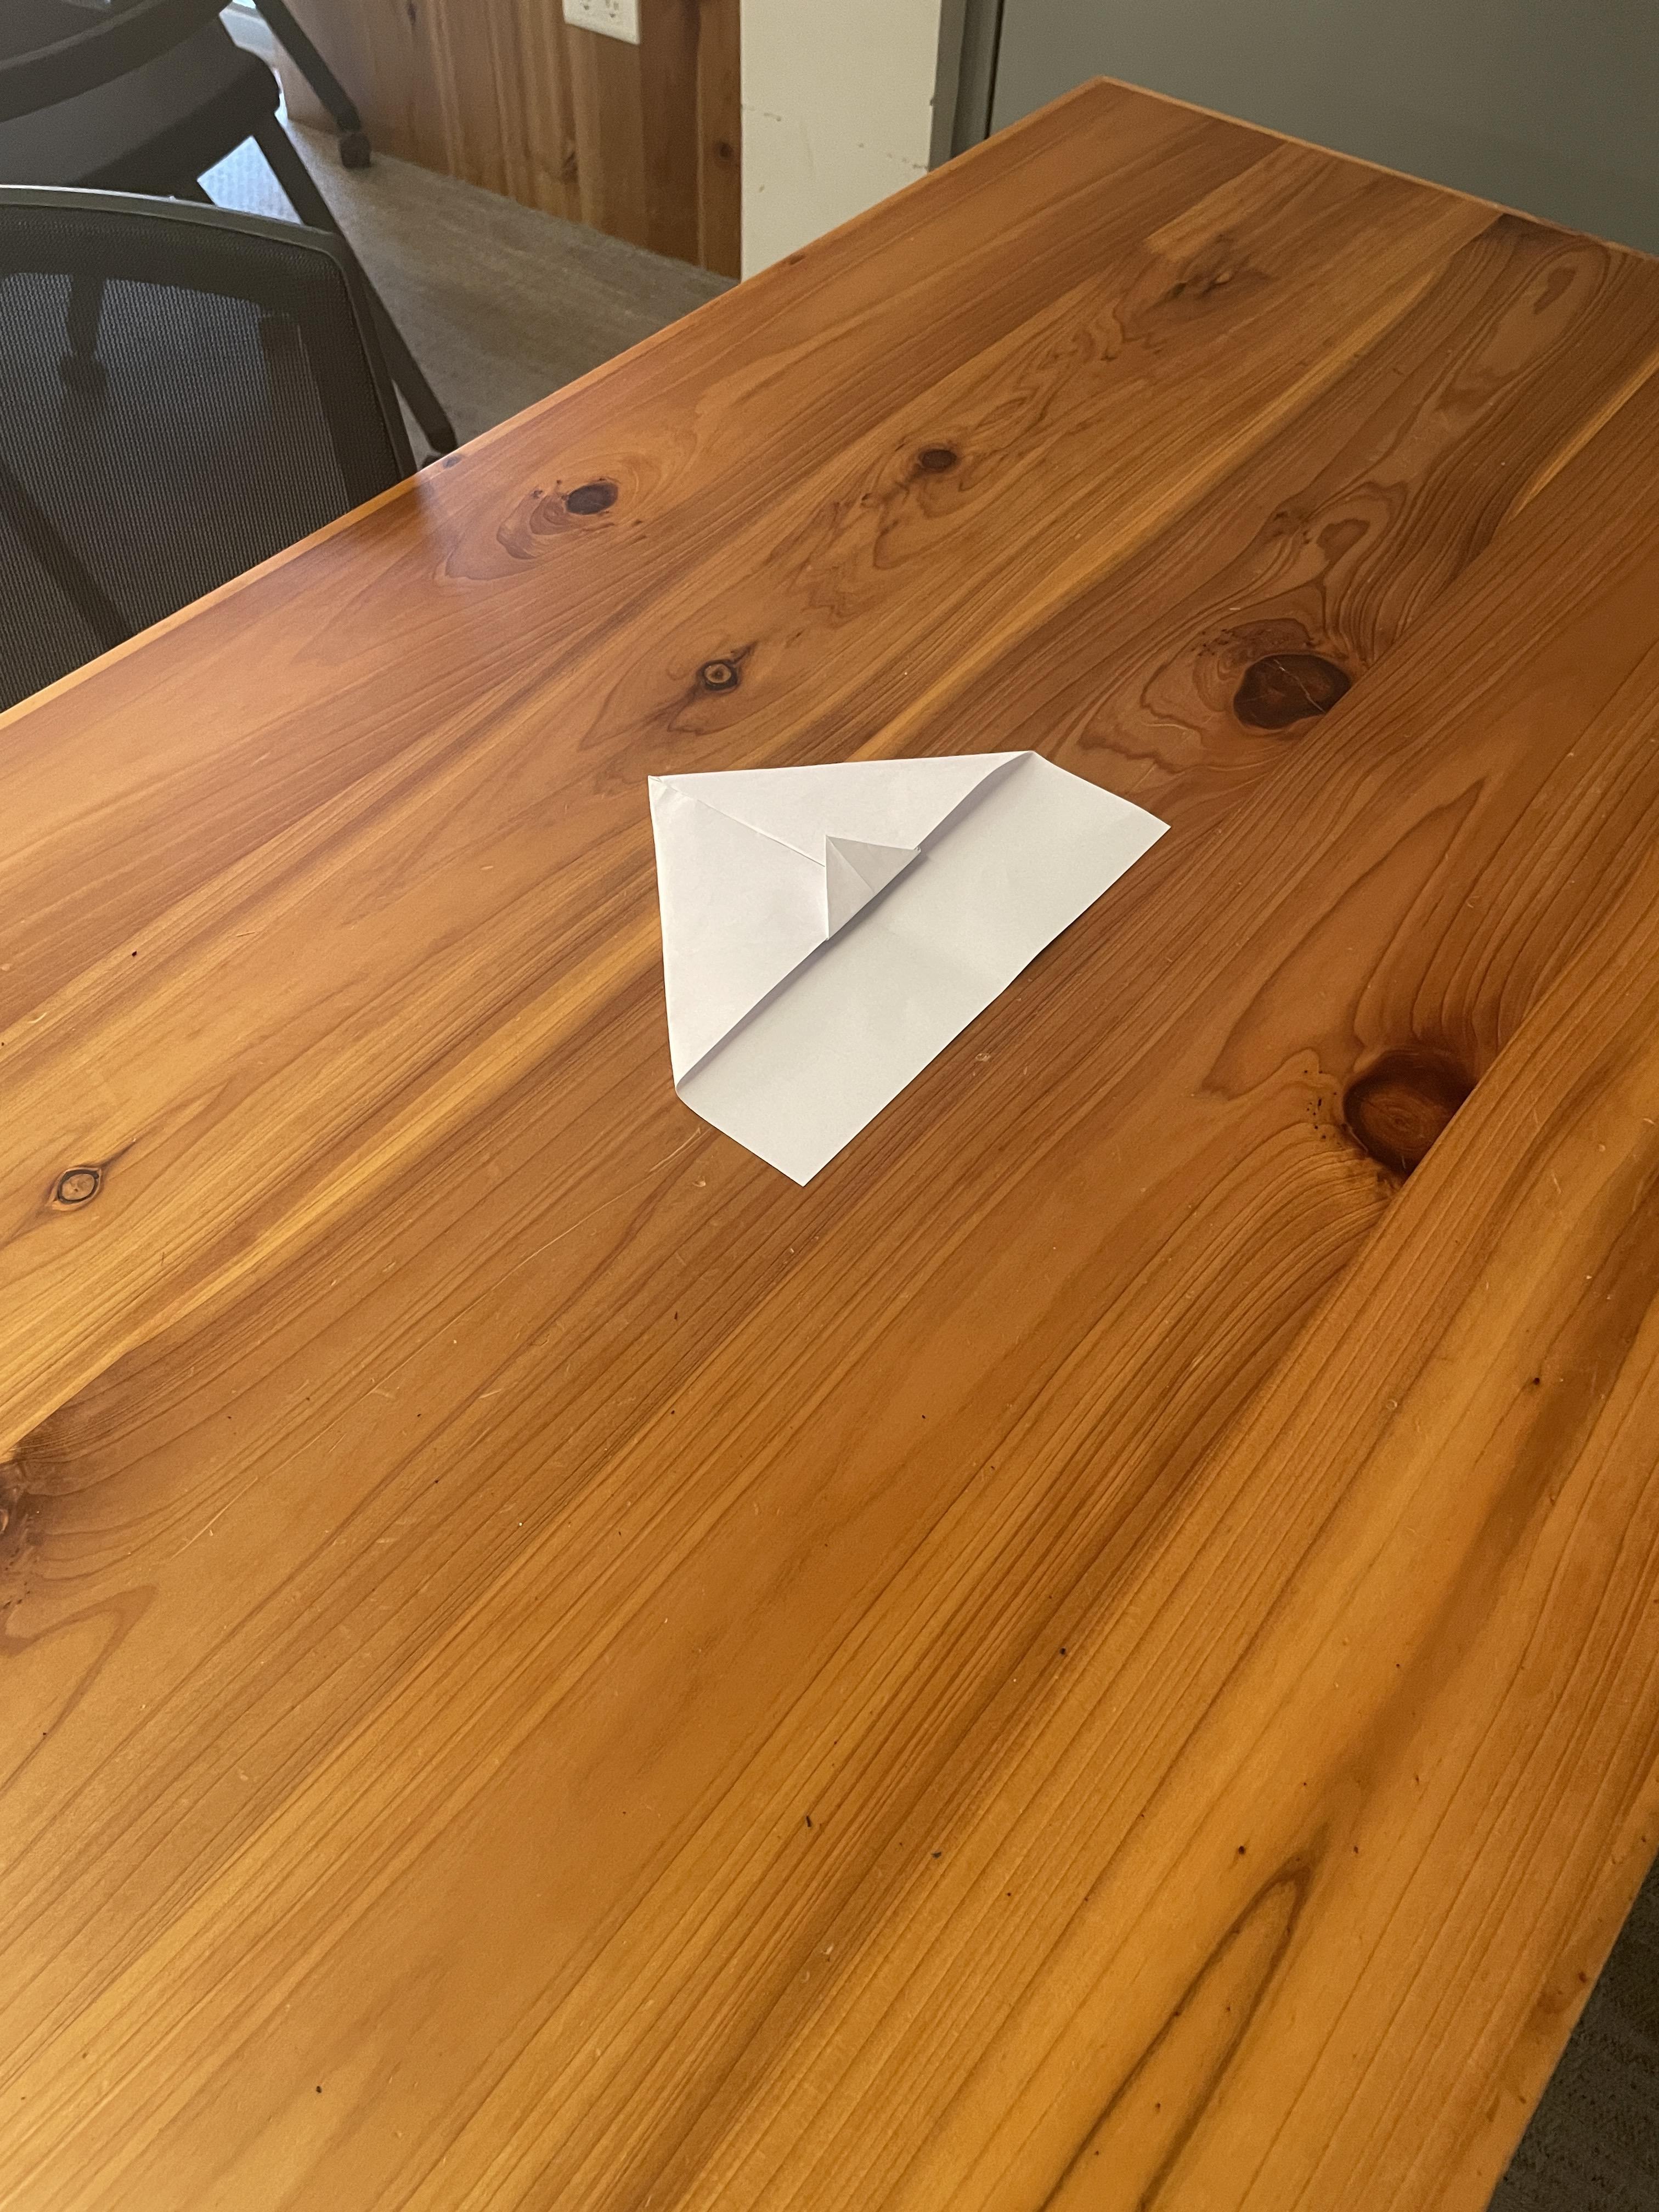shape_2: (532, 622, 1249, 1252)
